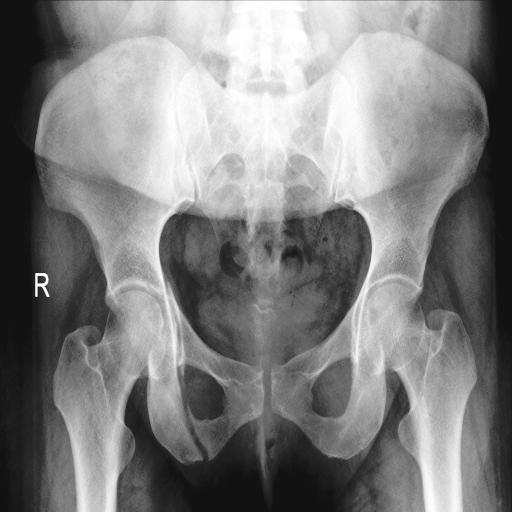normal: (362, 283, 478, 512), (53, 290, 167, 512)
